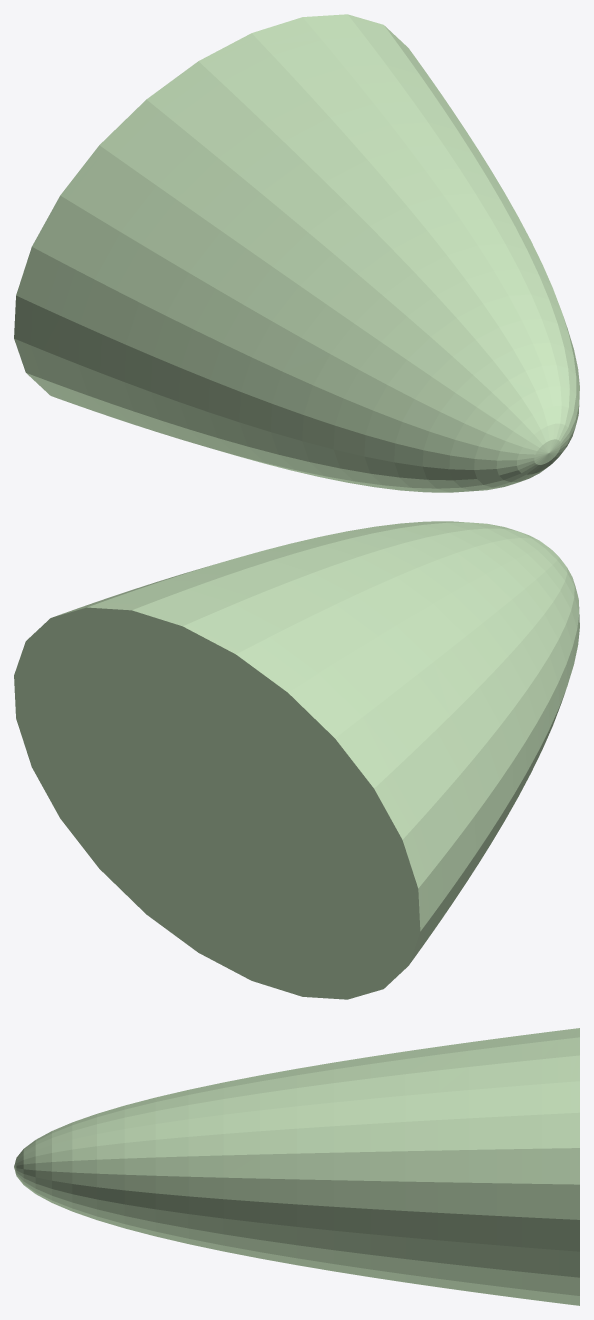
Rendered from tinker.obj.
The picture shows the model from 3 angles, top to bottom: view 1: azimuth 30°, elevation 25°; view 2: azimuth 150°, elevation 25°; view 3: azimuth 270°, elevation 25°; orthographic projection. The views are drawn at different scales.
Visible parts, largest first — view 1: obj_0; view 2: obj_0; view 3: obj_0.
Boxes of the visible parts, left/top/right/bottom form: obj_0: left=14, top=14, right=579, bottom=492; obj_0: left=14, top=521, right=579, bottom=999; obj_0: left=14, top=1028, right=579, bottom=1305.
Size of the model in its own units: 41.95 by 34.02 by 59.33.
